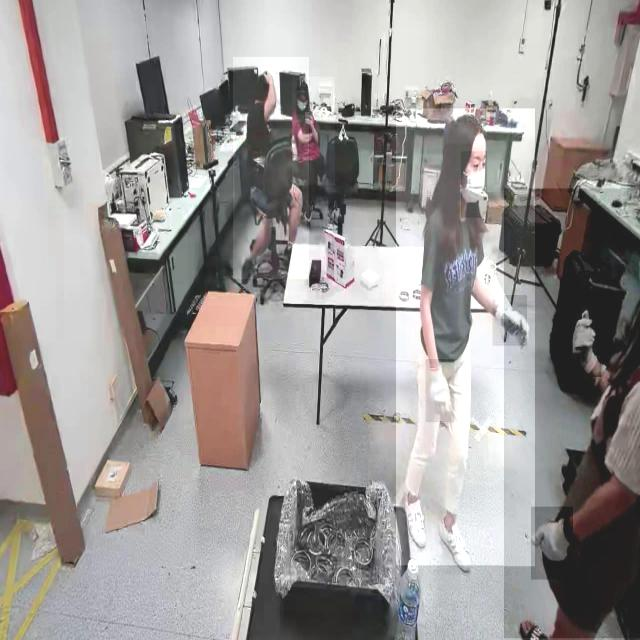face_mask: (461, 151, 487, 218), (296, 92, 308, 114)
hand_glove: (531, 506, 573, 580), (566, 307, 602, 377), (425, 359, 455, 423), (493, 295, 527, 346)
hand_noglove: (264, 68, 276, 84), (304, 112, 314, 124)
head_nohelmet: (446, 111, 488, 145), (256, 68, 274, 84), (296, 80, 310, 92)
person: (395, 109, 535, 566), (504, 188, 640, 639), (233, 57, 309, 280), (292, 76, 335, 186)
shoes: (437, 512, 477, 579), (401, 487, 431, 553)
